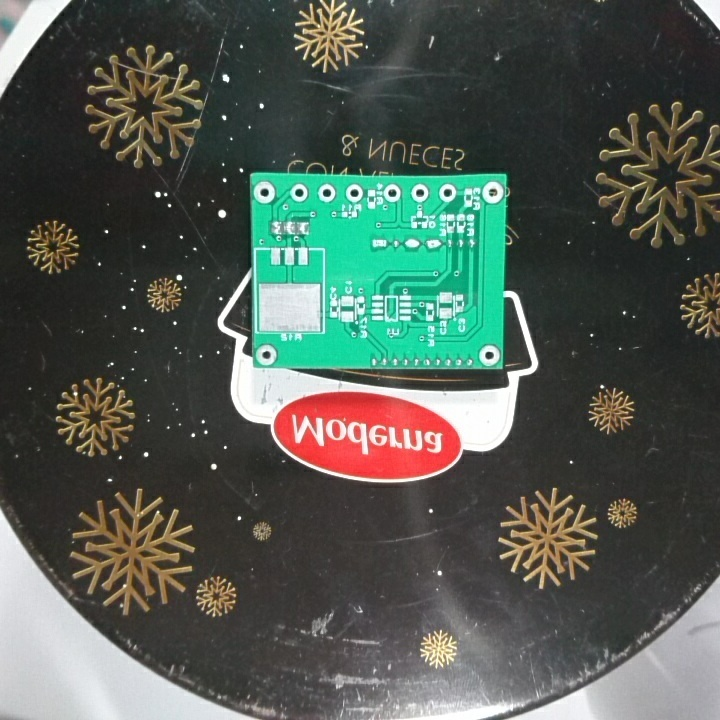F: (252, 180, 277, 207), (253, 342, 280, 366), (481, 180, 505, 206), (478, 343, 500, 368), (382, 183, 403, 204), (316, 183, 337, 204), (437, 183, 458, 203), (344, 183, 364, 204), (288, 182, 308, 203), (408, 183, 430, 201)
P: (422, 237, 445, 252), (401, 236, 422, 252), (368, 235, 388, 250)
